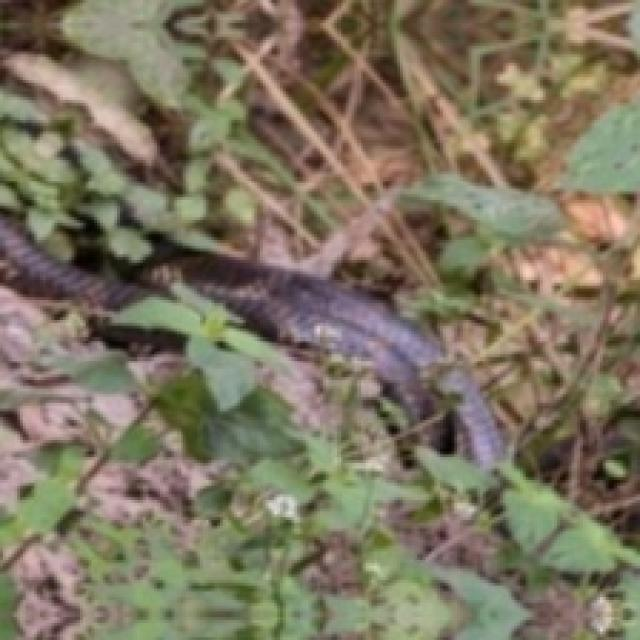king cobra: (177, 254, 503, 466), (0, 214, 137, 306)
